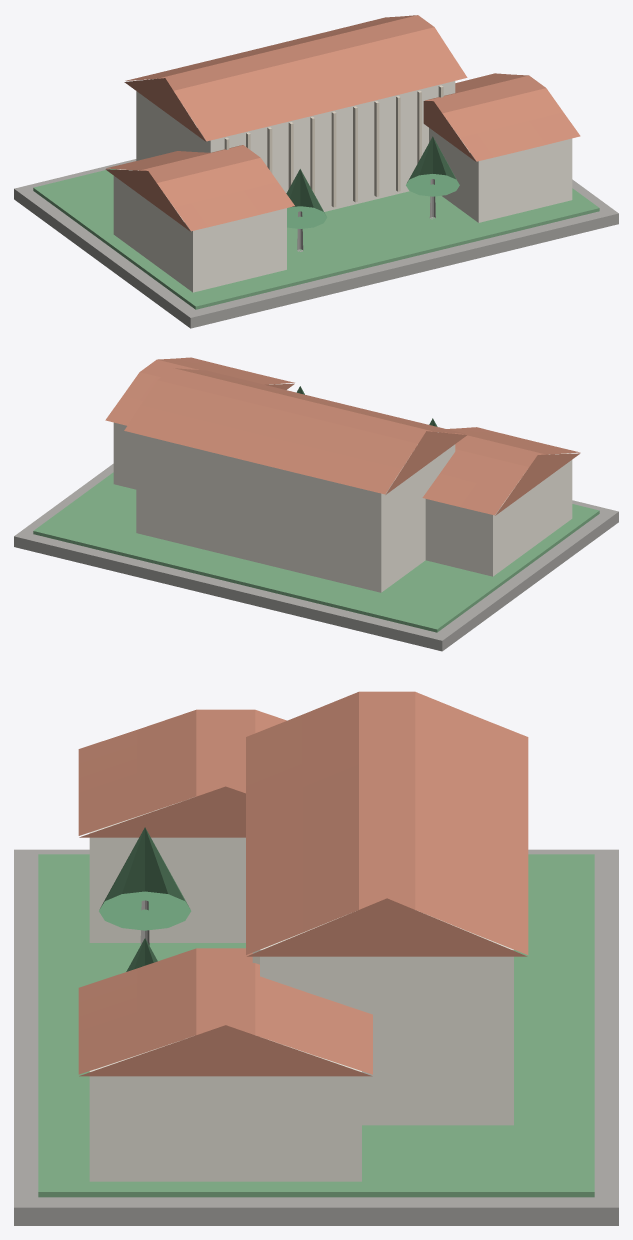
Rendered from lm_96_dai_hoc_da_lat_thu_vien_va_giang_duong_a25_rung_thong.glb.
The picture shows the model from 3 angles, top to bottom: view 1: azimuth 30°, elevation 25°; view 2: azimuth 150°, elevation 25°; view 3: azimuth 270°, elevation 25°; orthographic projection. The views are drawn at different scales.
Visible parts, largest first — view 1: lm_96_dai_hoc_da_lat_thu_vien_va_giang_duong_a25_rung_thong; view 2: lm_96_dai_hoc_da_lat_thu_vien_va_giang_duong_a25_rung_thong; view 3: lm_96_dai_hoc_da_lat_thu_vien_va_giang_duong_a25_rung_thong.
Boxes of the visible parts, <box> form: lm_96_dai_hoc_da_lat_thu_vien_va_giang_duong_a25_rung_thong: <box>14,15,618,328</box>; lm_96_dai_hoc_da_lat_thu_vien_va_giang_duong_a25_rung_thong: <box>14,357,618,651</box>; lm_96_dai_hoc_da_lat_thu_vien_va_giang_duong_a25_rung_thong: <box>14,691,618,1225</box>.
Size of the model in its own units: 42 by 14.1 by 30.
